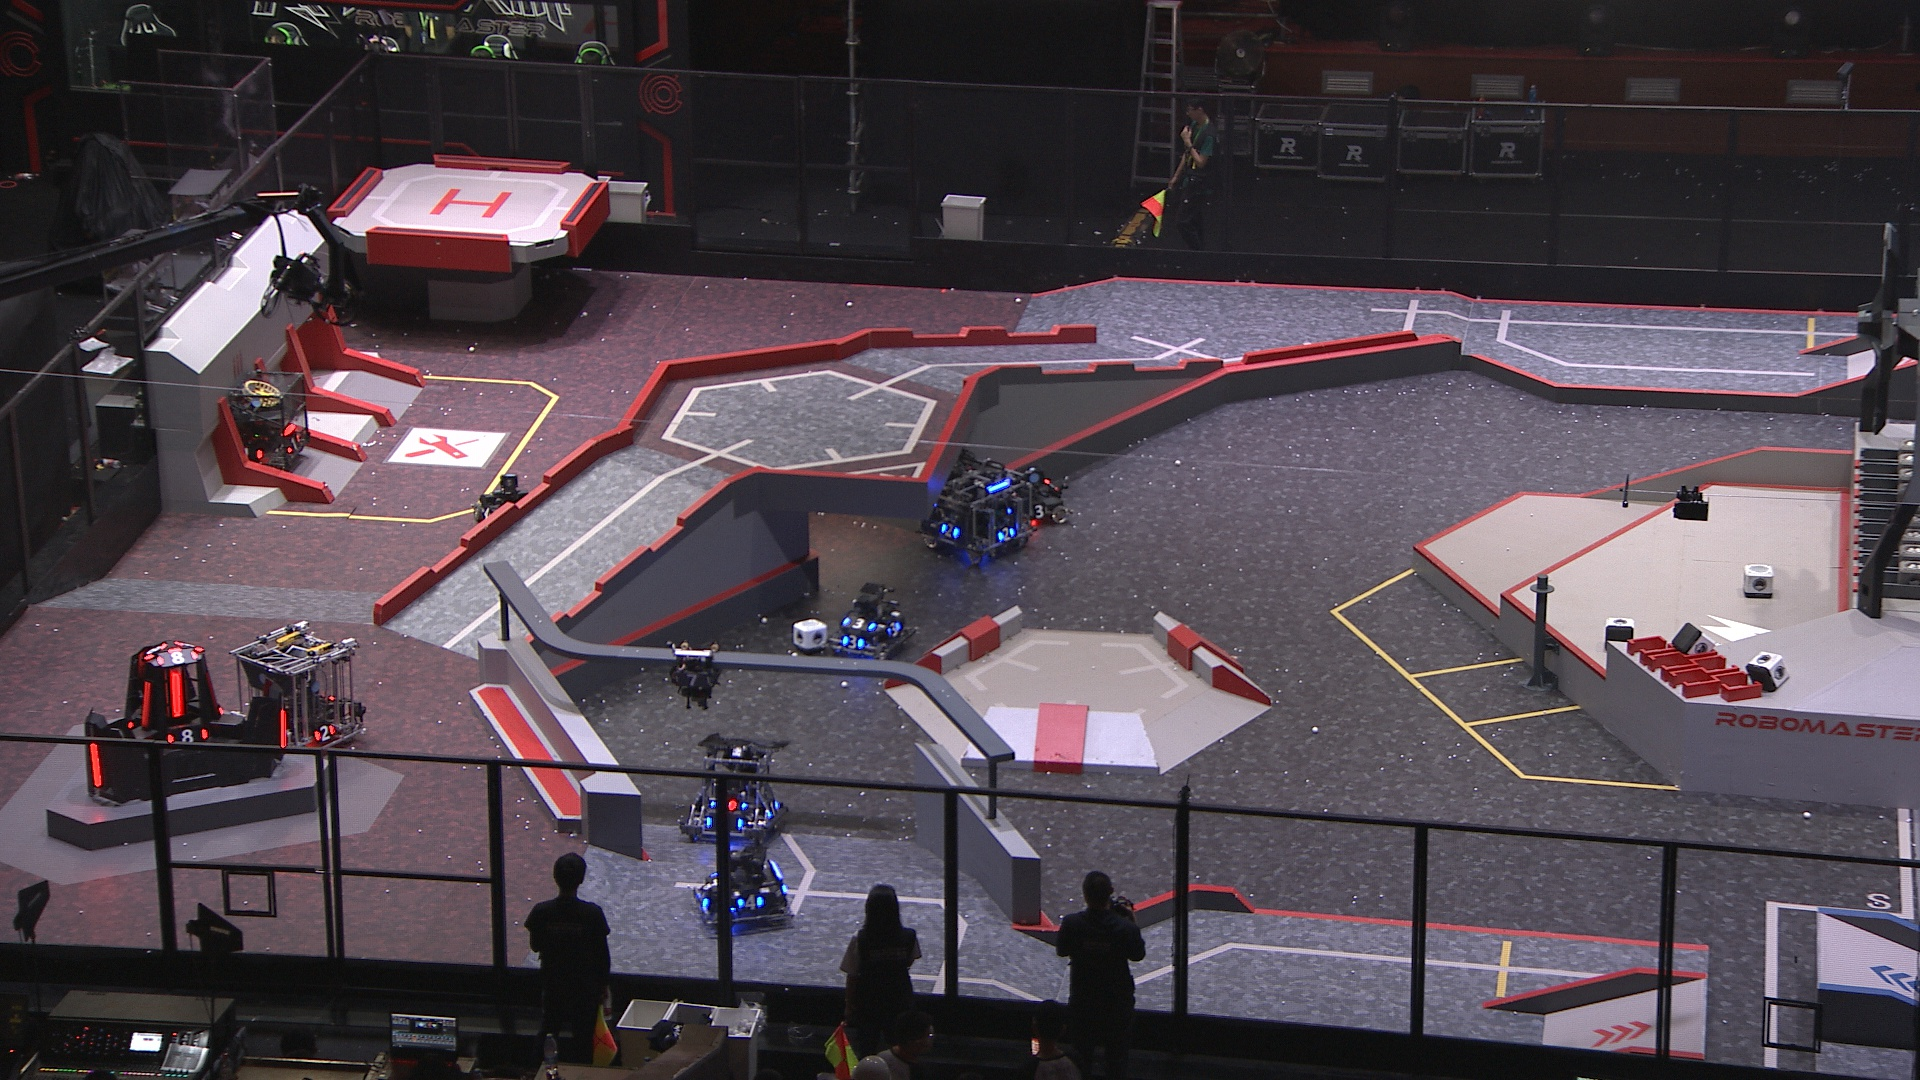armor: (161, 727, 211, 746), (166, 666, 185, 717), (88, 740, 102, 789), (671, 673, 711, 688), (154, 650, 196, 665), (841, 616, 880, 632), (735, 894, 766, 911), (141, 680, 153, 723), (935, 522, 960, 541), (278, 708, 289, 752), (314, 725, 338, 742), (239, 446, 266, 460), (840, 636, 865, 651), (1030, 505, 1051, 524), (764, 799, 781, 820), (477, 504, 495, 524), (996, 526, 1015, 543), (698, 889, 712, 911), (144, 644, 162, 661), (286, 436, 301, 458), (708, 873, 723, 891), (887, 622, 903, 638)
base: (82, 638, 291, 808)
car: (229, 618, 368, 756), (913, 448, 1035, 560), (679, 732, 795, 845), (207, 371, 315, 479), (692, 843, 793, 935), (825, 579, 920, 659), (471, 472, 541, 541), (1005, 465, 1073, 527)
watcher: (666, 641, 724, 708)
